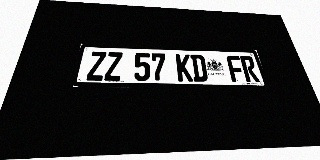5: (134, 53, 150, 81)
7: (150, 53, 167, 81)
D: (190, 54, 208, 82)
F: (226, 55, 246, 82)
K: (175, 54, 193, 82)
R: (239, 56, 260, 82)
Z: (86, 51, 106, 81), (104, 52, 123, 81)
